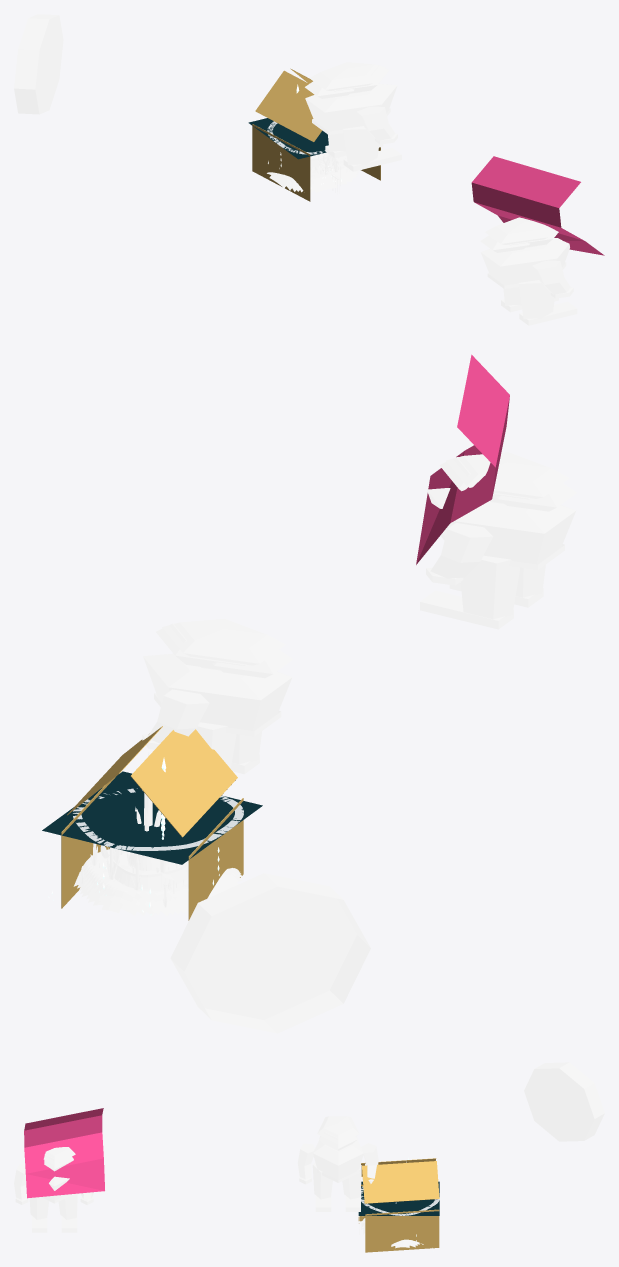
File: ile-cristal-v5-leger.glb
3 renders of one model, top to bottom at view 1: azimuth 30°, elevation 25°; view 2: azimuth 150°, elevation 25°; view 3: azimuth 270°, elevation 25°, orthographic. The views are drawn at different scales.
Visible parts, largest first — view 1: ile_anime2.031, ile_anime1.031, ile_banniere0.017, ile_vitres.021, ile_anime0.031, ile_corps.031, ile_libre0.029; view 2: ile_anime0.031, ile_anime1.031, ile_anime2.031, ile_vitres.021, ile_libre0.029, ile_corps.031, ile_banniere0.017; view 3: ile_vitres.021, ile_banniere0.017, ile_anime2.031, ile_anime0.031, ile_anime1.031, ile_libre0.029, ile_corps.031.
Part boxes in pixels (box(x1,y1,x2,y2)): ile_anime2.031: box(305, 62, 401, 171); ile_anime1.031: box(480, 217, 577, 325); ile_banniere0.017: box(471, 156, 604, 255); ile_vitres.021: box(252, 68, 380, 201); ile_anime0.031: box(14, 14, 63, 114); ile_corps.031: box(267, 83, 360, 194); ile_libre0.029: box(248, 118, 328, 159); ile_anime0.031: box(170, 873, 370, 1033); ile_anime1.031: box(420, 452, 576, 629); ile_anime2.031: box(136, 618, 292, 774); ile_vitres.021: box(61, 726, 243, 920); ile_libre0.029: box(42, 771, 262, 864); ile_corps.031: box(73, 751, 242, 916); ile_banniere0.017: box(416, 354, 509, 564); ile_vitres.021: box(358, 1158, 439, 1252); ile_banniere0.017: box(24, 1108, 104, 1198); ile_anime2.031: box(297, 1116, 378, 1211); ile_anime0.031: box(524, 1062, 604, 1141); ile_anime1.031: box(14, 1147, 93, 1232); ile_libre0.029: box(358, 1181, 439, 1215); ile_corps.031: box(358, 1161, 439, 1248).
Bounding box in the file's own units: 6.38 × 3.41 × 14.58.
